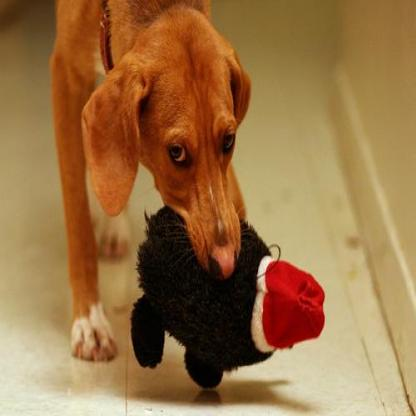vizsla: (50, 1, 245, 362)
